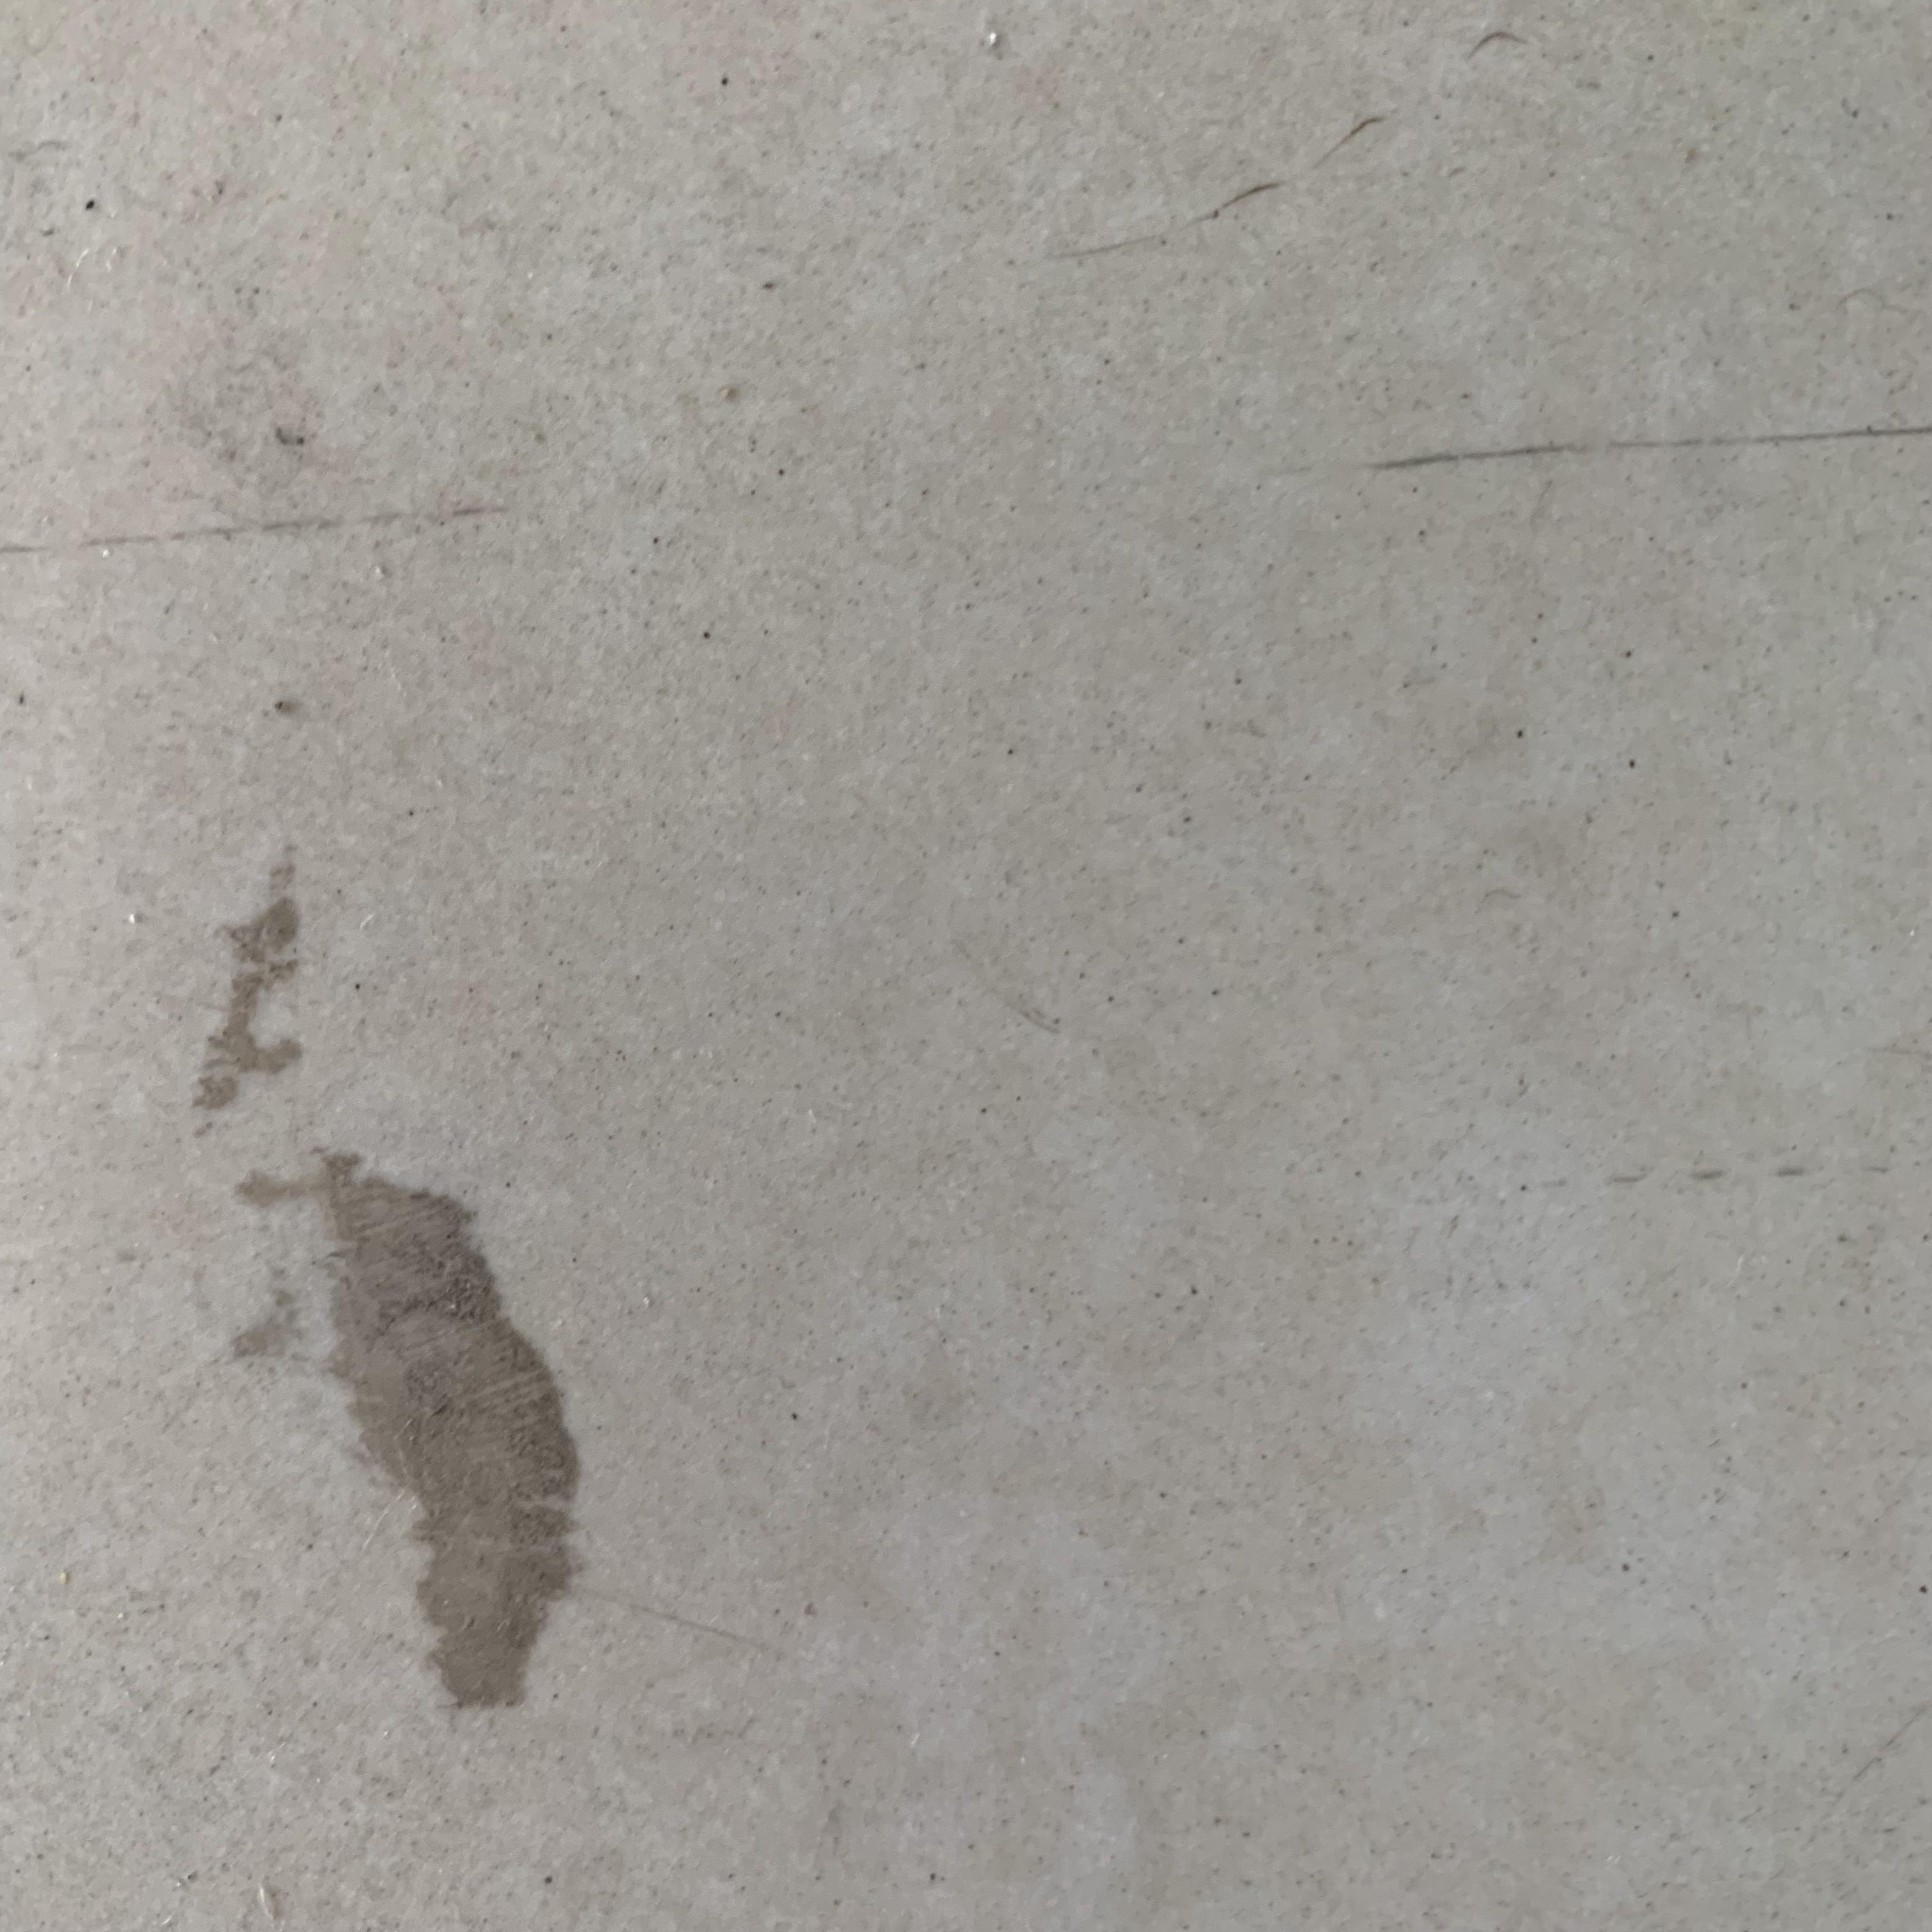grey spot: (232, 1154, 584, 1714), (196, 847, 304, 1148)
